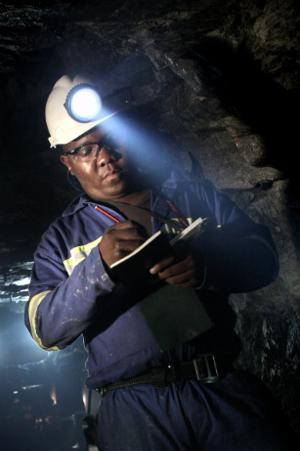person: (23, 71, 281, 451)
